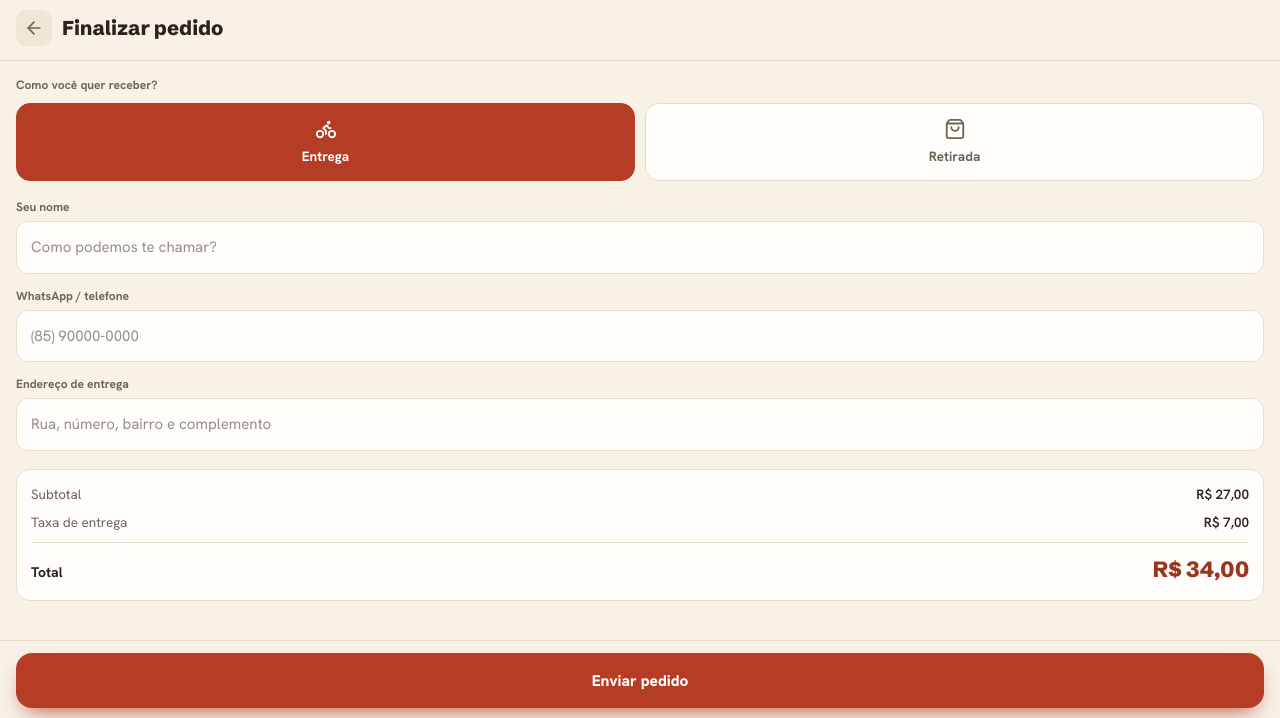
Test case: CheckoutScreen order persistence handoff › keeps PLAN_LIMIT_REACHED distinct with its specific blocked message
The width and height of the screenshot is (1280, 718).
Type "Cliente Teste" into the field labelled "Seu nome".
click(640, 248); type("Cliente Teste")  # box [16,221,1264,274]
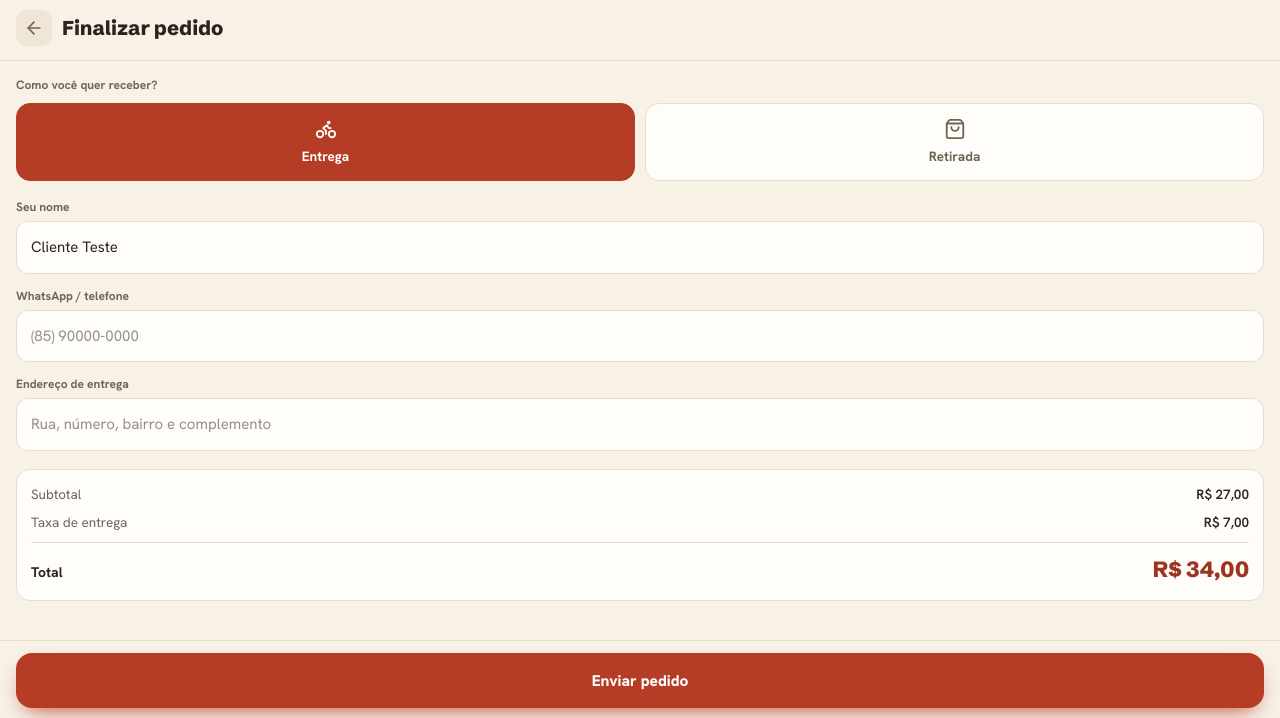
Type "(85) 98888-7777" into the field labelled "WhatsApp / telefone".
click(640, 336); type("(85) 98888-7777")  # box [16,310,1264,362]
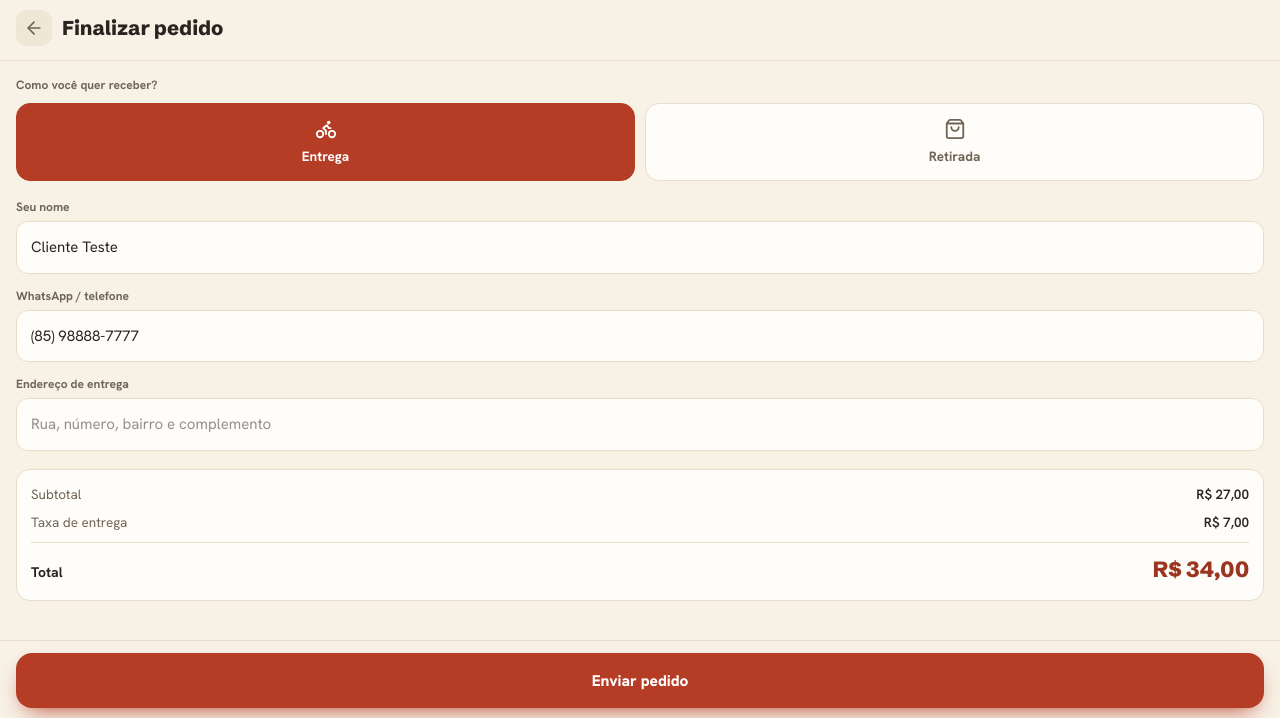
Type "Rua Um, 123" into the field labelled "Endereço de entrega".
click(640, 425); type("Rua Um, 123")  # box [16,398,1264,451]
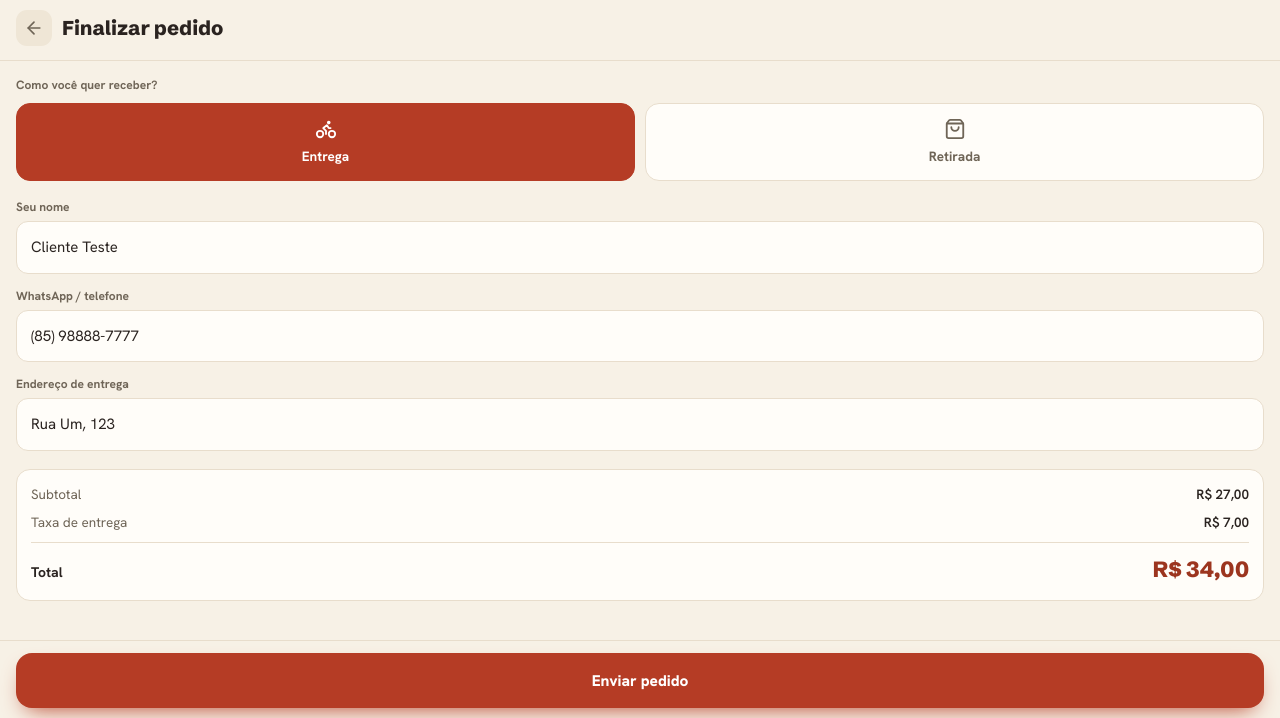
Click the button "Enviar pedido".
click(640, 680)  # box [16,653,1264,708]
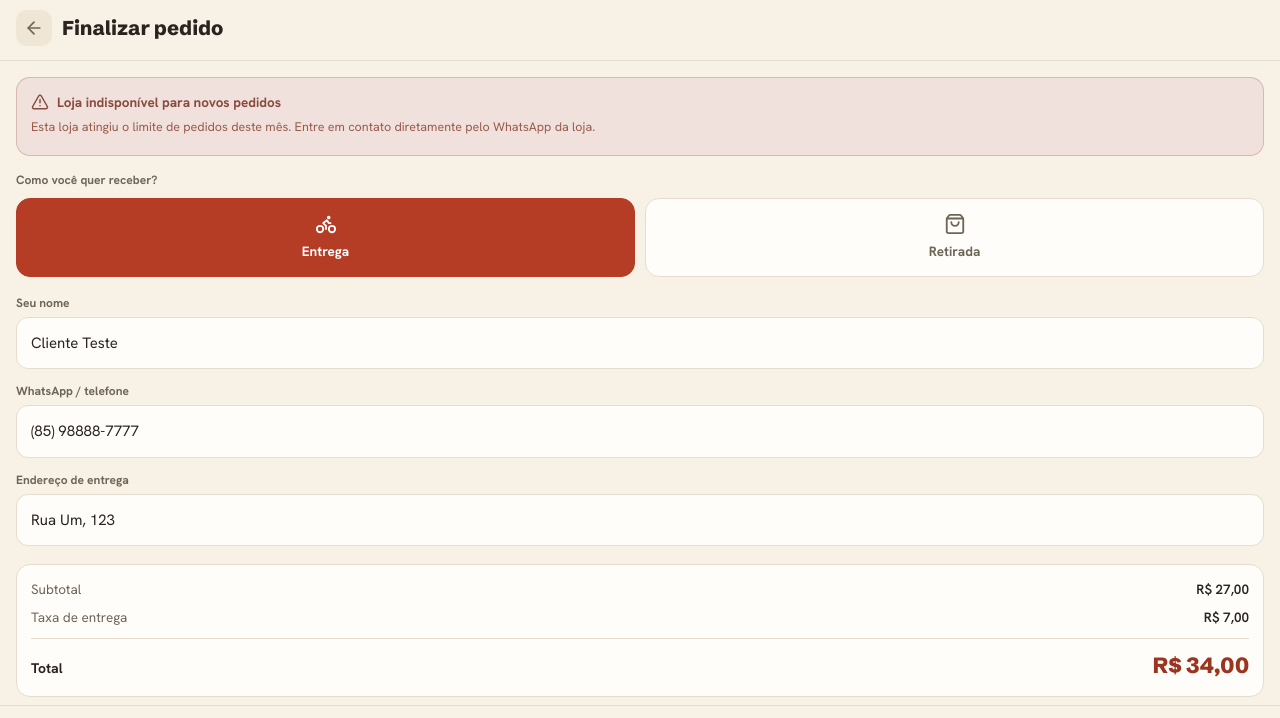
Result: the text "Loja indisponível para novos pedidos" is shown at [31,93,281,111]
Result: the text "atingiu o limite de pedidos deste mês" is shown at [31,118,595,135]
